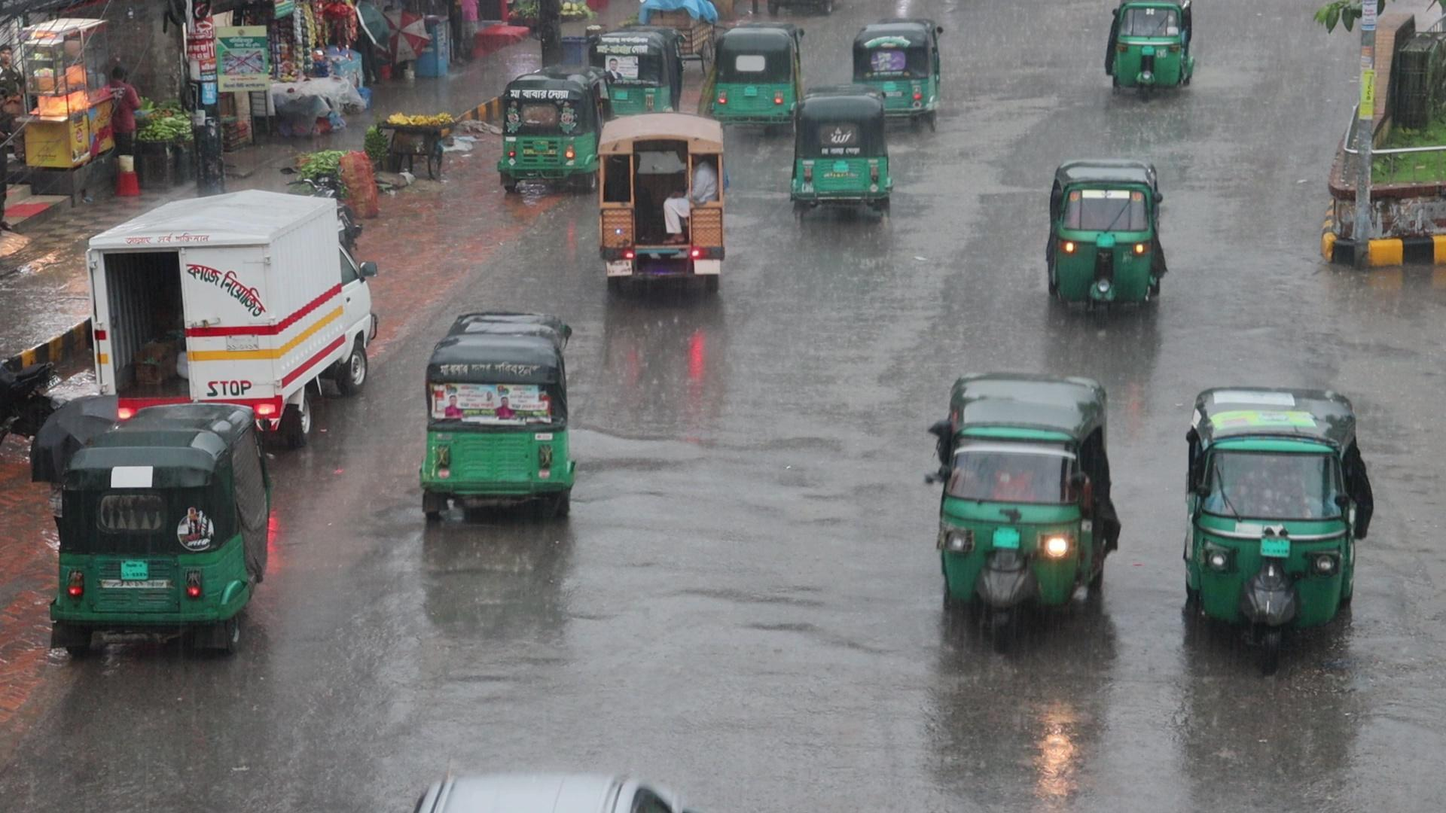Truck: (587, 110, 732, 315)
